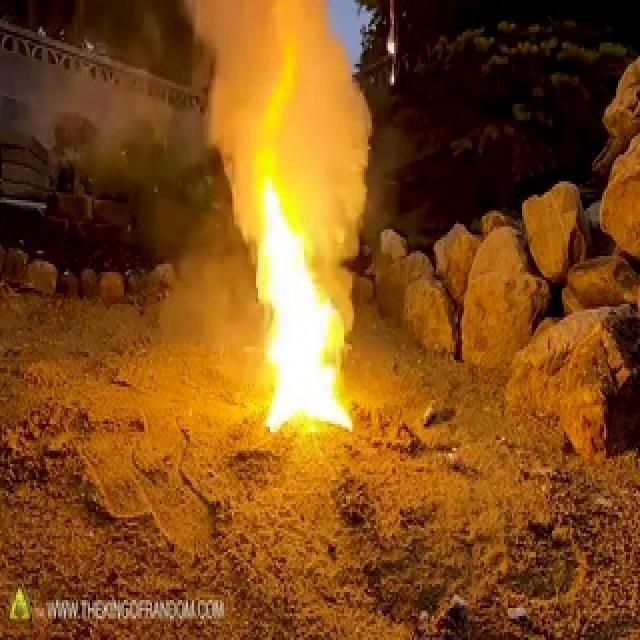Fire: (232, 154, 362, 440)
